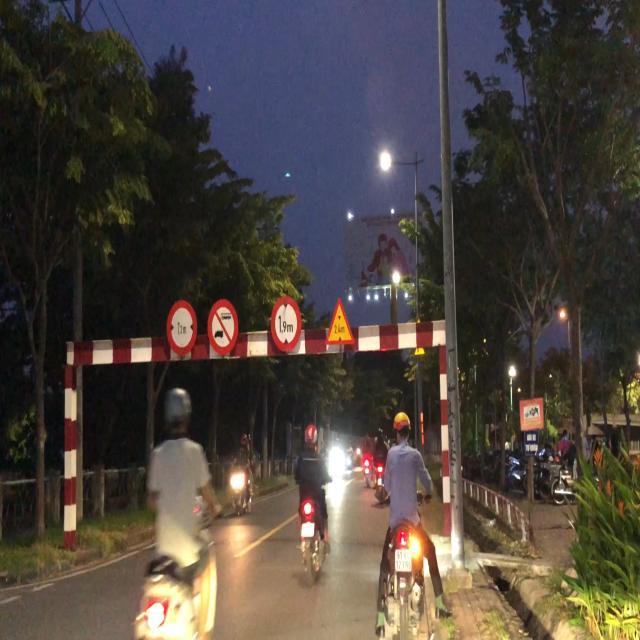Bien bao cam xe oto khach va xe oto tai: (206, 297, 241, 358)
Bien bao chieu cao tinh khong thuc te: (322, 294, 355, 356)
Bien bao han che chieu cao: (269, 288, 305, 359)
